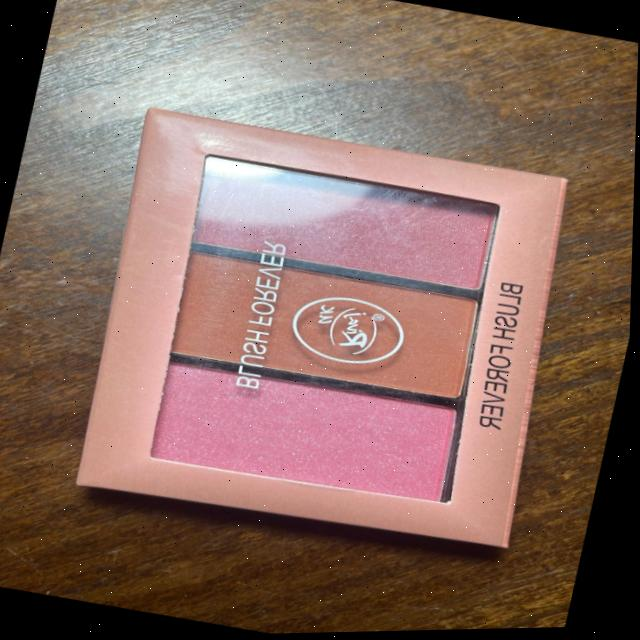blush: (106, 337, 499, 530), (166, 135, 521, 309)
bronzer: (159, 238, 498, 410)
